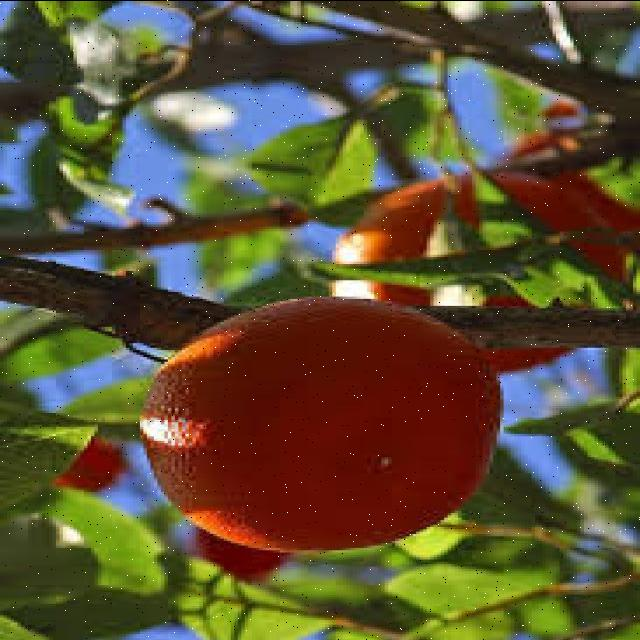Orange: (137, 294, 501, 555)
